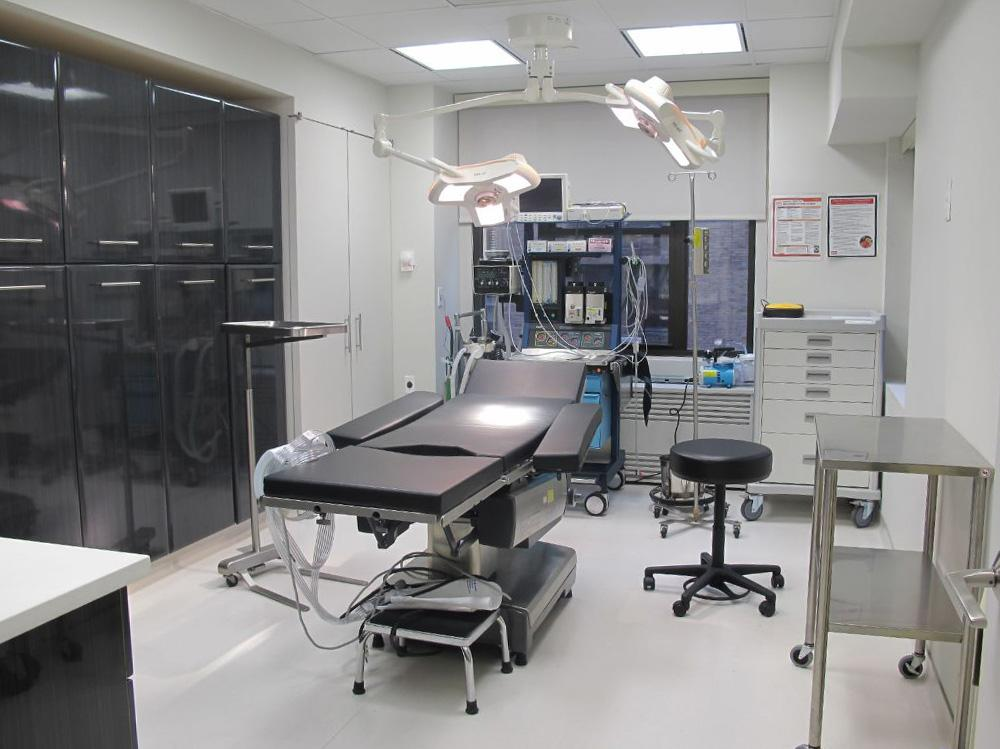Monitor: (501, 158, 574, 232)
Saline Stand: (666, 156, 732, 532)
bed: (254, 356, 597, 689)
stool: (640, 429, 786, 628)
tools_table: (774, 424, 986, 748), (216, 301, 345, 607)
